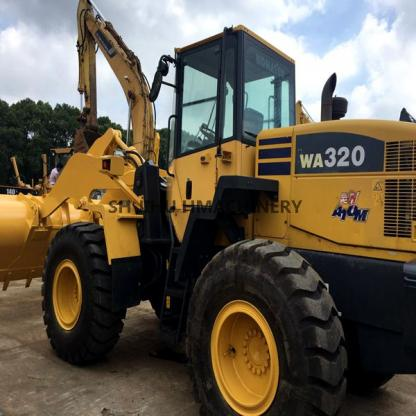bull_dozer/loader/grader: (3, 25, 415, 416)
